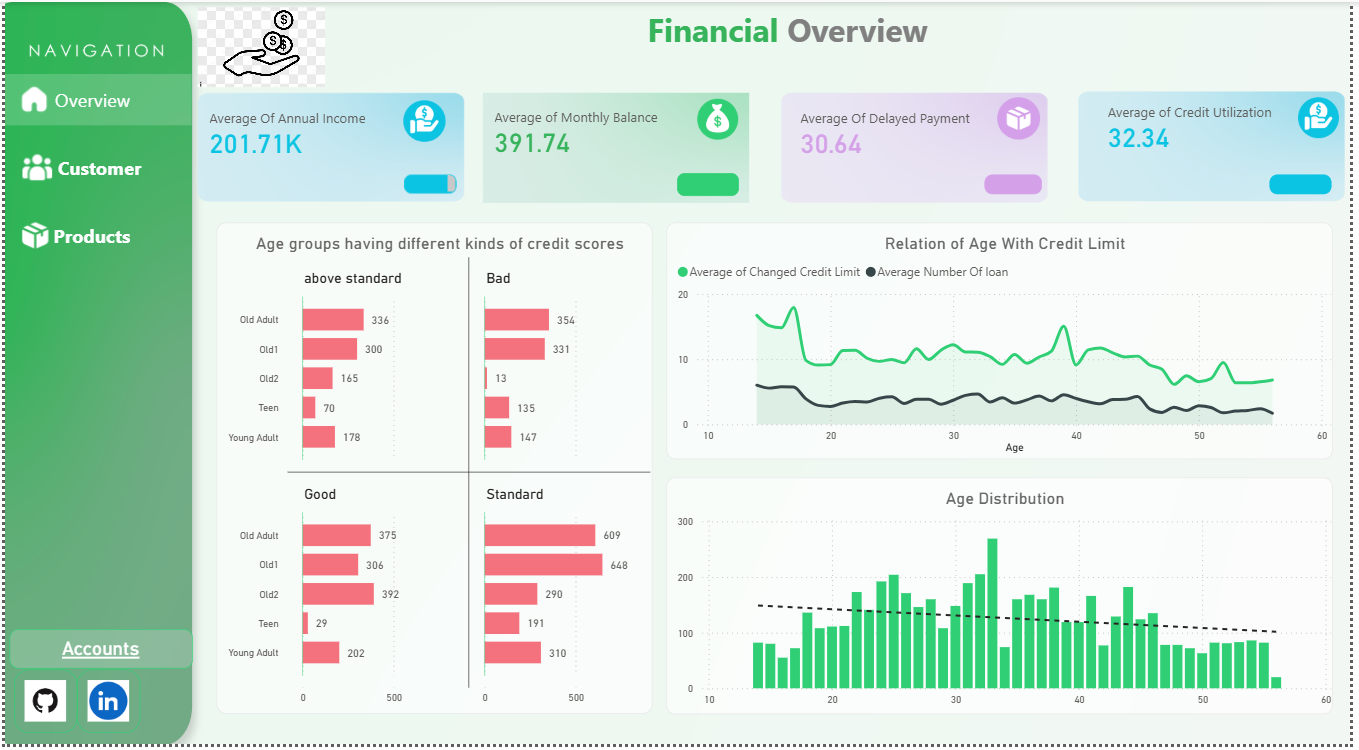

This screenshot's page, from the dashboard's own definition file:
{"tool":"powerbi","page":{"name":"Overview","canvas":[1360,750],"ordinal":0},"visuals":[{"type":"image","box":[189.1,85.9,279.7,120.3],"z":0,"group":"g2"},{"type":"image","box":[478.1,85.9,279.7,121.9],"z":0},{"type":"image","box":[0,0,201.5,750.7],"z":1000},{"type":"cardVisual","title":"Average Of Annual Income","fields":{"Data":["Avg(combined_df.Annual_Income)"]},"box":[189.1,90.4,196.9,84.2],"z":1000,"group":"g2"},{"type":"image","box":[779.7,85.9,279.7,121.9],"z":2000},{"type":"image","box":[386,93.4,75,52.6],"z":2000,"group":"g2"},{"type":"textbox","box":[403.2,173.1,53.1,19.6],"z":3000,"group":"g2"},{"type":"lineChart","title":"Relation of Age With Credit Limit","fields":{"Category":["combined_df.age_c"],"Y":["Avg(combined_df.Changed_Credit_Limit)","Avg(combined_df.no of loan)"]},"box":[668.8,223.4,673.4,239.1],"z":3000},{"type":"actionButton","box":[10.8,70.6,164.5,54.2],"z":4000},{"type":"image","box":[1079.7,84.4,279.7,121.9],"z":5000},{"type":"actionButton","box":[13.8,139.3,165.9,55.3],"z":6000},{"type":"shape","box":[0,72.6,188.9,51.8],"z":7000},{"type":"textbox","box":[1278.1,175,62.5,20.3],"z":8000},{"type":"textbox","box":[990.6,175,57.8,20.3],"z":9000},{"type":"textbox","box":[679.7,173.4,62.8,23.1],"z":9500,"group":"g1"},{"type":"actionButton","box":[9.2,209.1,164.8,54.1],"z":10000},{"type":"clusteredBarChart","title":"Age groups having  different kinds of credit scores","fields":{"Category":["combined_df.Age Group"],"Rows":["combined_df.Credit_Mix"],"Y":["CountNonNull(combined_df.Age Group)"]},"box":[214.1,223.4,440.6,496.9],"z":11000},{"type":"textbox","box":[644.8,0,346.3,59.7],"z":12000},{"type":"image","box":[16.1,35.7,150.9,30],"z":13000},{"type":"image","box":[693.8,92.2,51.6,51.6],"z":14000},{"type":"image","box":[1296.9,90.6,62.5,51.6],"z":15000},{"type":"image","box":[992.2,90.6,65.6,53.1],"z":16000},{"type":"cardVisual","fields":{"Data":["Avg(combined_df.Monthly_Balance)"]},"box":[478.1,89.1,215.6,85.9],"z":17000},{"type":"group","id":"g1","title":"Group 1","box":[679.7,173.4,62.5,23.4],"z":18000},{"type":"cardVisual","fields":{"Data":["Avg(combined_df.Num_of_Delayed_Payment)"]},"box":[787.5,90.6,220.3,84.4],"z":19000},{"type":"cardVisual","fields":{"Data":["Avg(combined_df.Credit_Utilization_Ratio)"]},"box":[1098.4,84.4,203.1,84.4],"z":20000},{"type":"clusteredColumnChart","title":"Age Distribution","fields":{"Category":["combined_df.age_c"],"Y":["CountNonNull(combined_df.age_c)"]},"box":[668.8,481.2,673.4,239.1],"z":21000},{"type":"group","id":"g2","title":"Group 2","box":[189.1,85.9,279.7,120.3],"z":22000},{"type":"image","box":[189.6,0,138.8,91],"z":23000},{"type":"image","box":[9,674.6,64.2,64.2],"z":24000,"group":"g3"},{"type":"image","box":[73.2,674.6,64.2,64.2],"z":25000,"group":"g3"},{"type":"textbox","box":[4.5,634.3,185.1,40.3],"z":25001,"group":"g3"},{"type":"group","id":"g3","title":"Group 3","box":[4.5,634.3,185.1,104.5],"z":25002}]}

Visuals, with their boxes in screenshot pixels (x1, y1, x2, y2), scaled from the page's 1360x750 canvas onto the 1359x750 screenshot:
image: 189 86 468 206
image: 478 86 757 208
image: 0 0 201 749
"Average Of Annual Income" cardVisual: 189 90 386 175
image: 779 86 1059 208
image: 386 93 461 146
textbox: 403 173 456 193
"Relation of Age With Credit Limit" lineChart: 668 223 1341 462
actionButton: 11 71 175 125
image: 1079 84 1358 206
actionButton: 14 139 180 195
shape: 0 73 189 124
textbox: 1277 175 1340 195
textbox: 990 175 1048 195
textbox: 679 173 742 196
actionButton: 9 209 174 263
"Age groups having  different kinds of credit scores" clusteredBarChart: 214 223 654 720
textbox: 644 0 990 60
image: 16 36 167 66
image: 693 92 745 144
image: 1296 91 1358 142
image: 991 91 1057 144
cardVisual - Avg(combined_df.Monthly_Balance): 478 89 693 175
"Group 1" group: 679 173 742 197
cardVisual - Avg(combined_df.Num_of_Delayed_Payment): 787 91 1007 175
cardVisual - Avg(combined_df.Credit_Utilization_Ratio): 1098 84 1301 169
"Age Distribution" clusteredColumnChart: 668 481 1341 720
"Group 2" group: 189 86 468 206
image: 189 0 328 91
image: 9 675 73 739
image: 73 675 137 739
textbox: 4 634 189 675
"Group 3" group: 4 634 189 739
